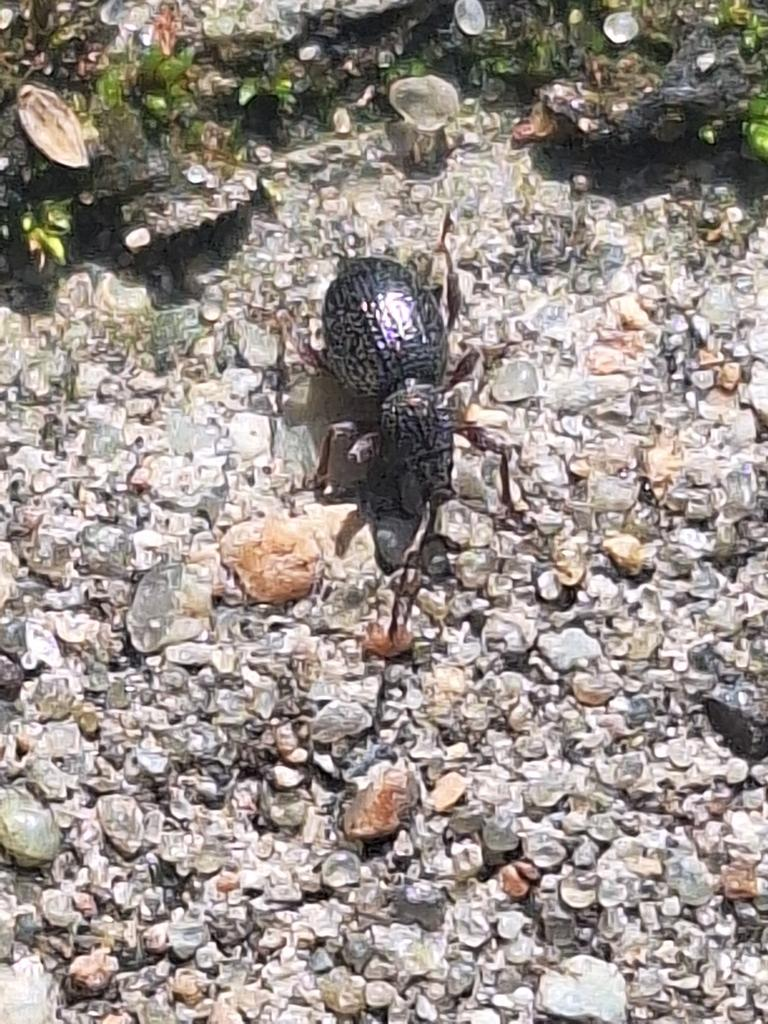weevils: (239, 177, 604, 620)
